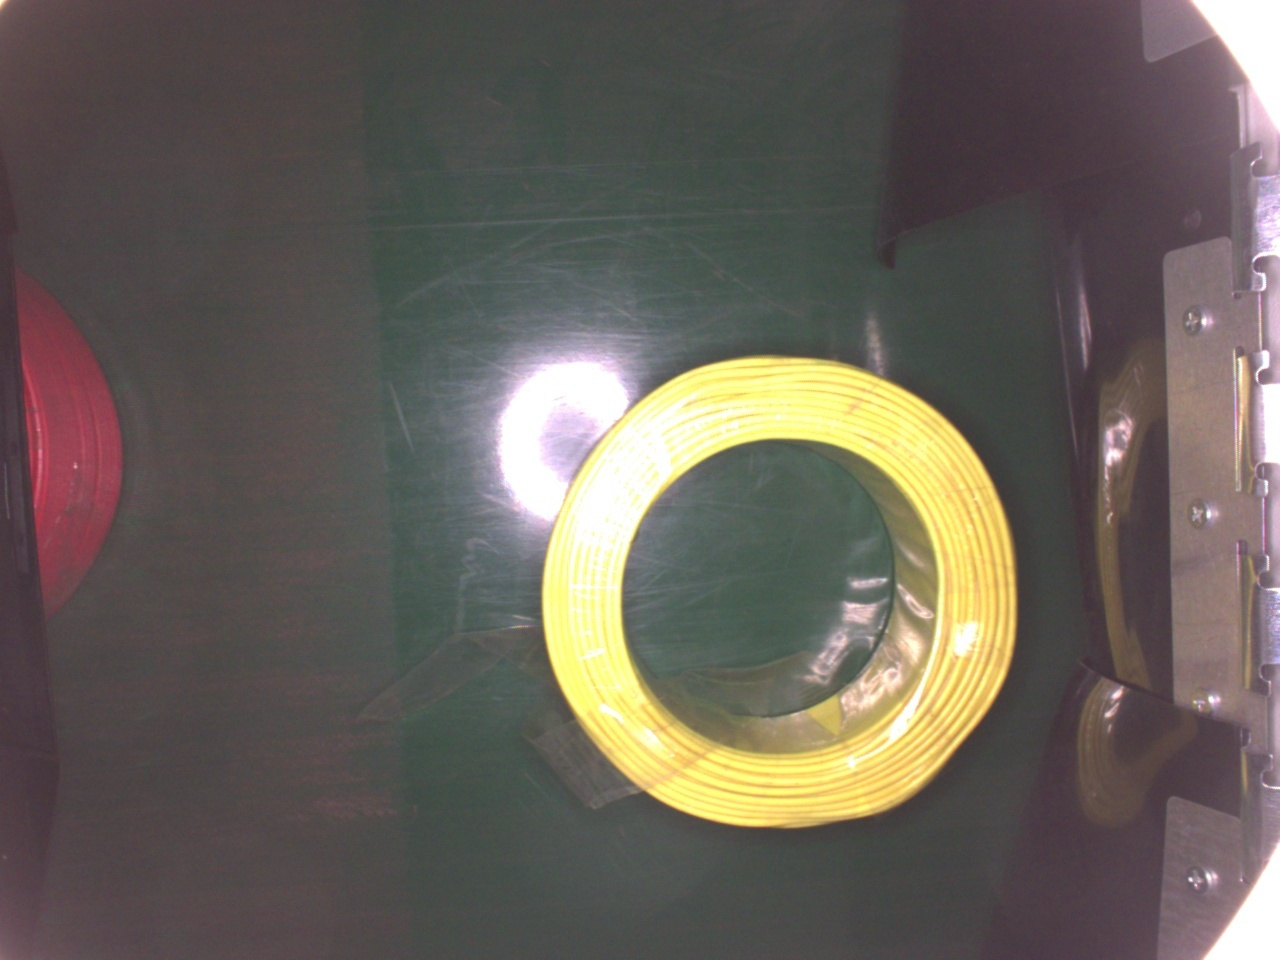yellow: (536, 349, 1021, 839)
